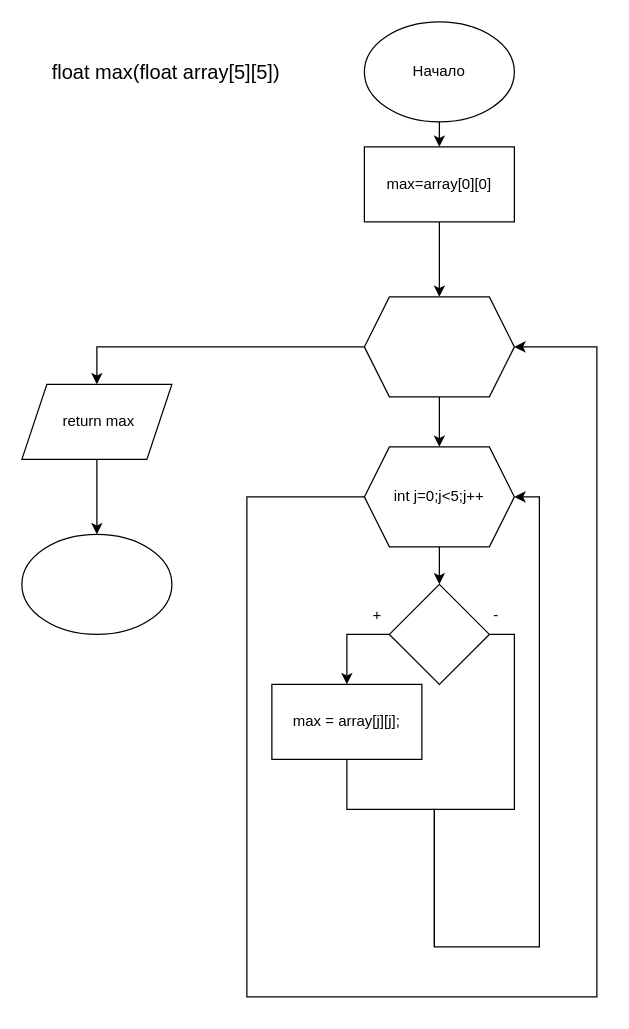
The diagram is 629 pixels wide and 1029 high, and some of its shapes have lost their labels. Here are the shapes that lost their labels. From the top down, the box of each, then its label:
(363, 296, 514, 397): int i=0;i<5;i++
(21, 533, 172, 634): Конец
(388, 583, 489, 684): array[i][j]>max
